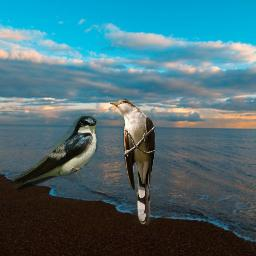Cuckoo: (109, 99, 156, 225)
Swallow: (11, 115, 98, 192)
